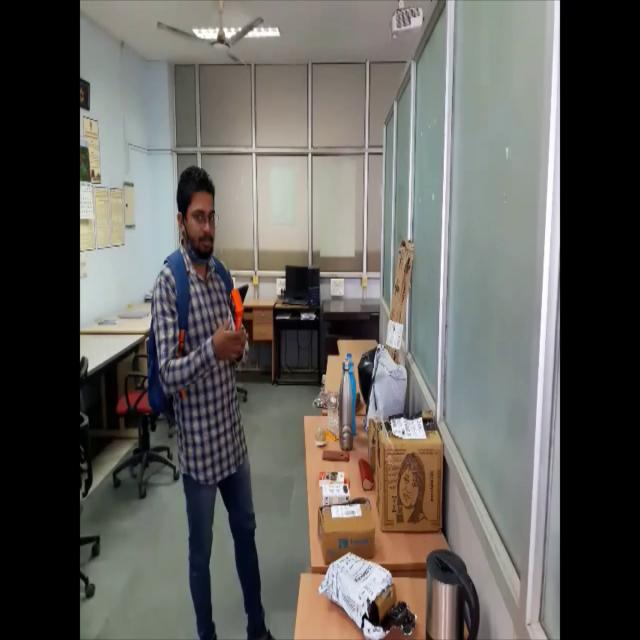normal: (145, 148, 267, 639)
